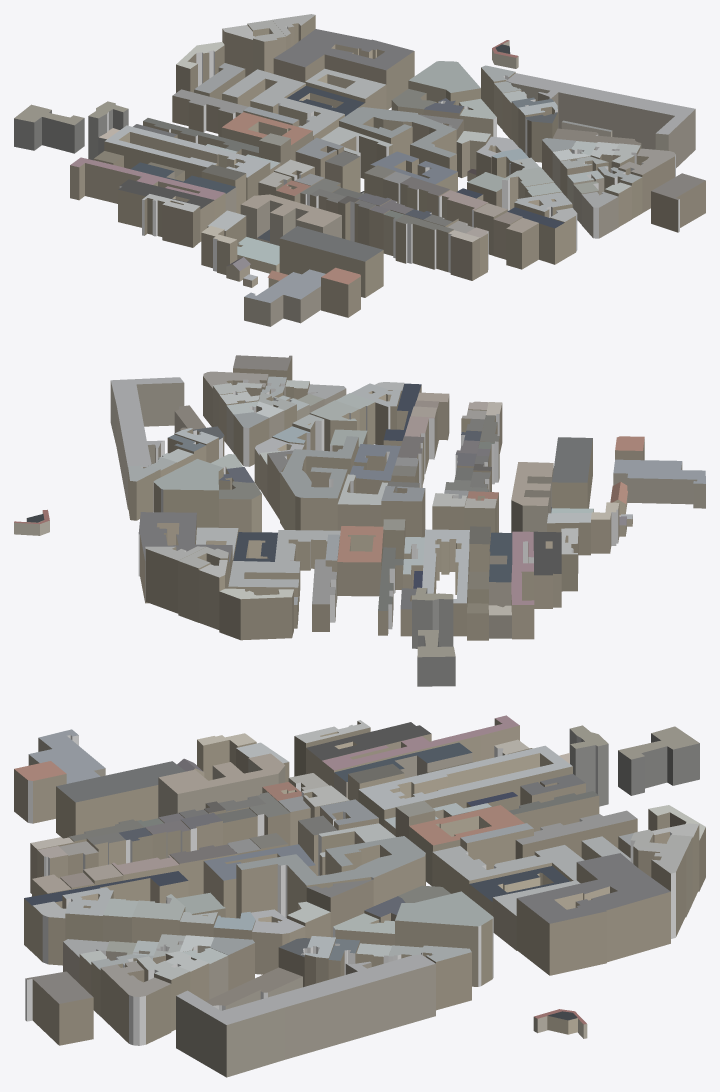
3 renders of one model, top to bottom at view 1: azimuth 30°, elevation 25°; view 2: azimuth 150°, elevation 25°; view 3: azimuth 270°, elevation 25°, orthographic. The views are drawn at different scales.
Parts seen in each view (by area): view 1: tuile; view 2: tuile; view 3: tuile.
Boxes of the visible parts, x1,y1,x2,y2 form: tuile: (14,14,705,326); tuile: (14,355,705,686); tuile: (14,715,705,1077).
Bounding box in the file's own units: 294 × 35.76 × 266.
